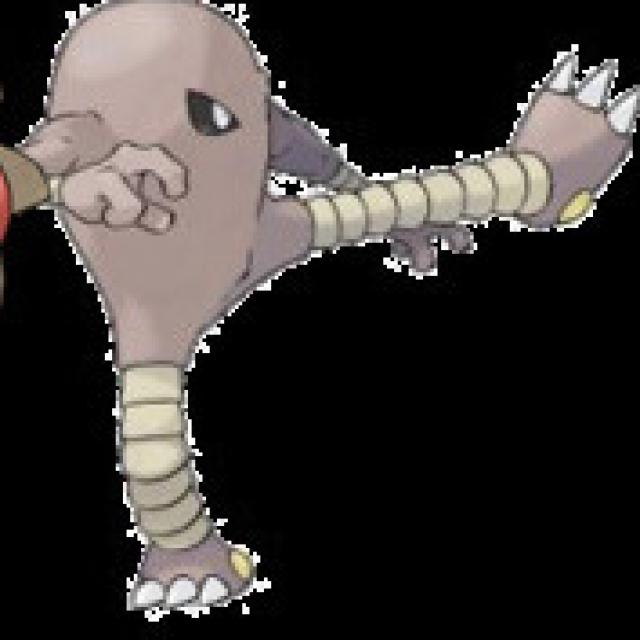Hitmonlee: (7, 22, 432, 416)
